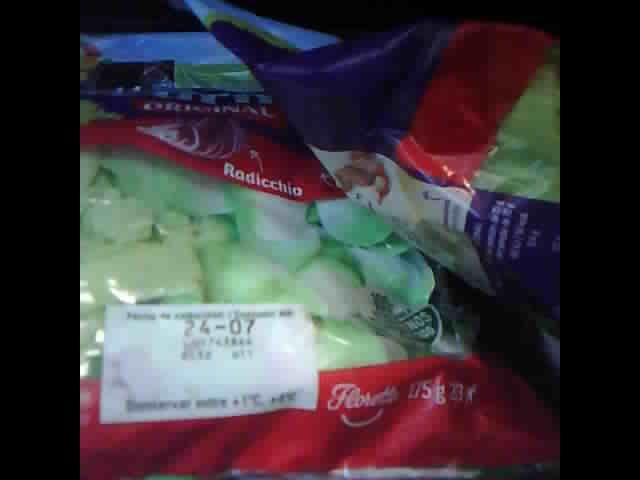florette: (81, 32, 558, 474), (179, 1, 559, 325)
